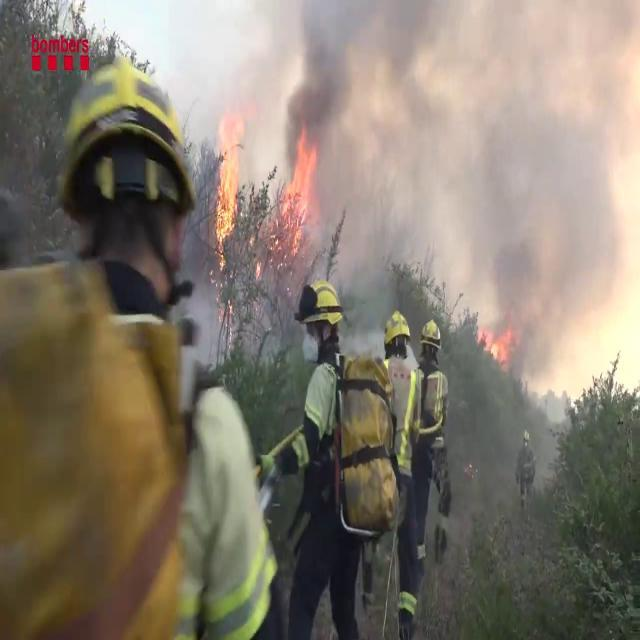Fire: (212, 106, 246, 266), (280, 121, 320, 251), (477, 317, 515, 371)
Smoke: (269, 0, 630, 308), (452, 0, 636, 480)
